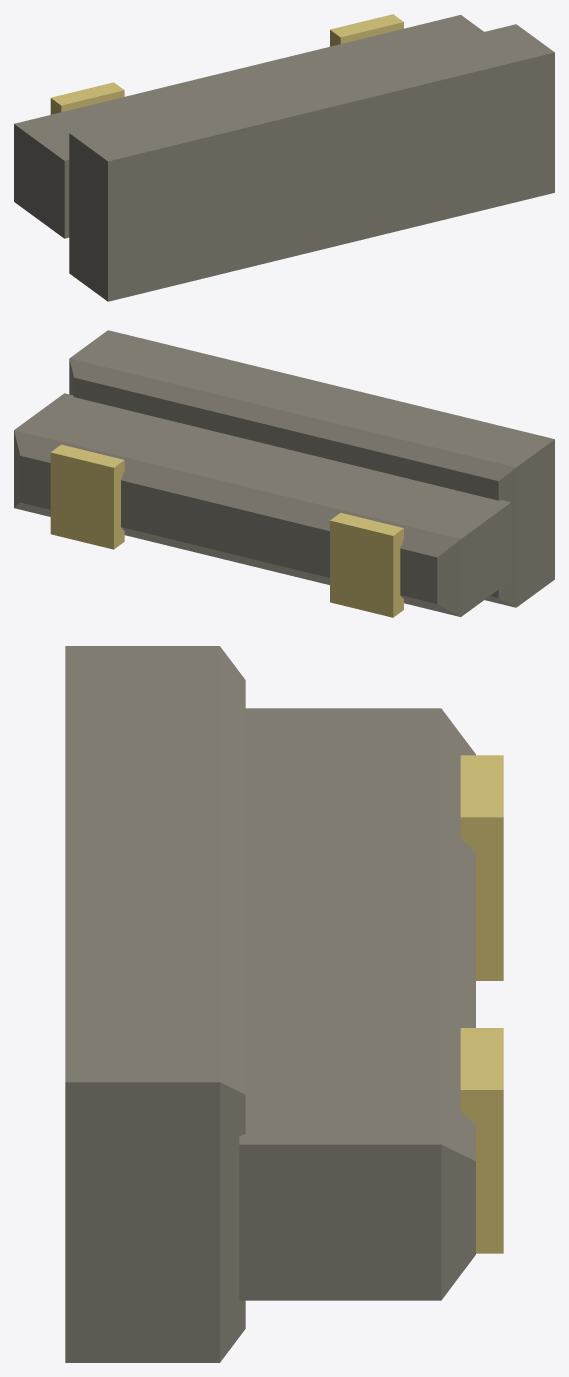
The model's file is concrete_barrier.glb.
3 views of the same model, one above another, from view 1: azimuth 30°, elevation 25°; view 2: azimuth 150°, elevation 25°; view 3: azimuth 270°, elevation 25° (orthographic). The views are drawn at different scales.
Visible parts, largest first — view 1: Body; view 2: Body; view 3: Body.
Boxes of the visible parts, x1,y1,x2,y2 form: Body: [14, 14, 554, 301]; Body: [14, 330, 554, 617]; Body: [65, 646, 503, 1362].
Bounding box in the file's own units: 2.4 × 0.72 × 1.02.
